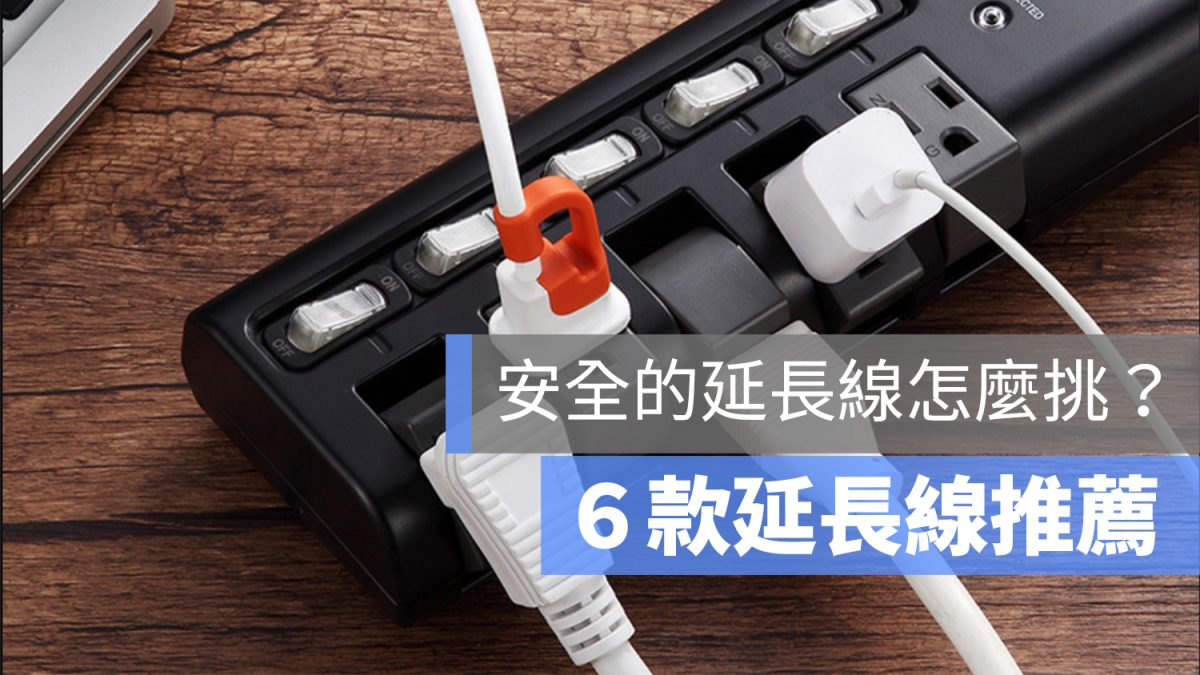socket: (173, 3, 1200, 612)
